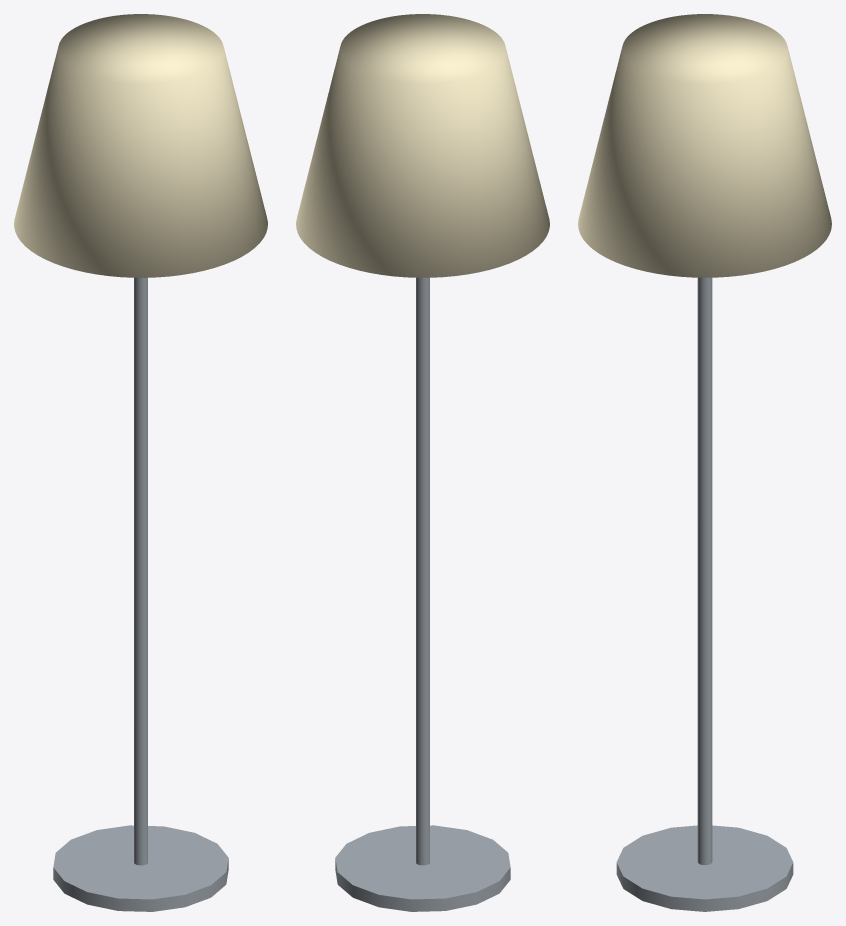
The model's file is Allolampa.obj.
The picture shows the model from 3 angles, left to right: view 1: azimuth 30°, elevation 25°; view 2: azimuth 150°, elevation 25°; view 3: azimuth 270°, elevation 25°; orthographic projection.
Size of the model in its own units: 0.46 by 1.65 by 0.46.
